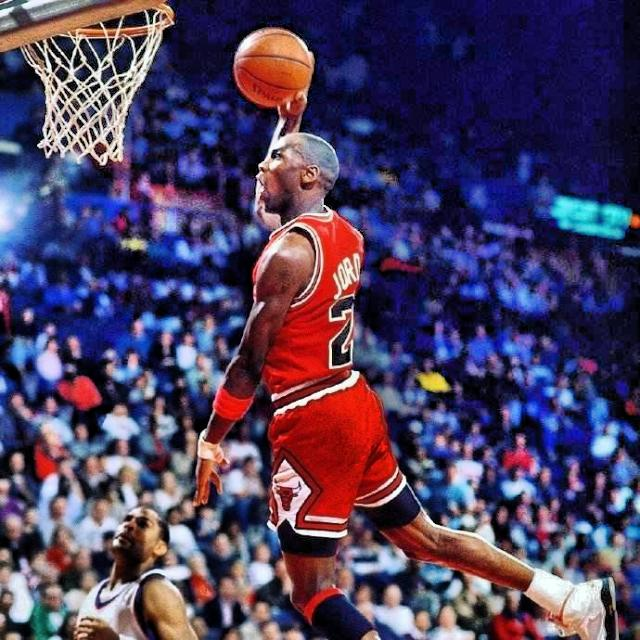board: (233, 27, 311, 108)
rim: (30, 0, 174, 162)
